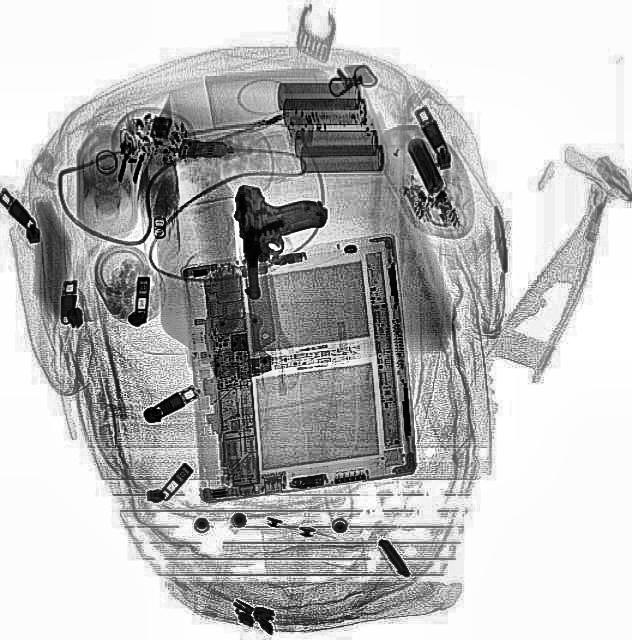Gun: (233, 182, 328, 300)
